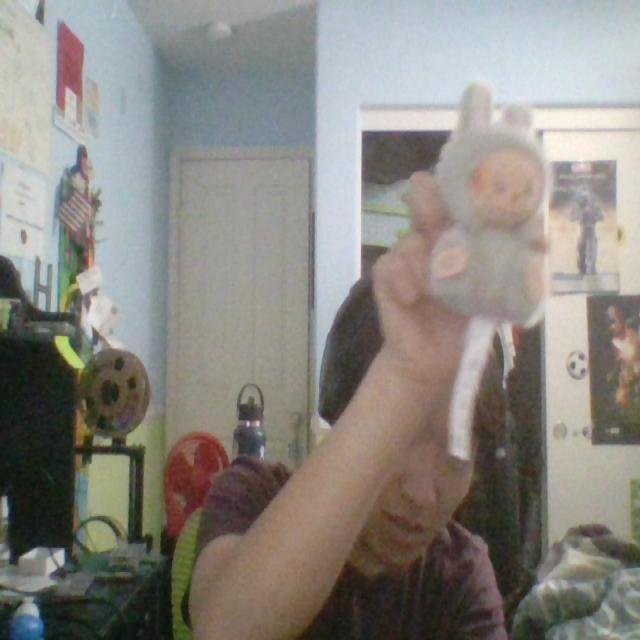labubu: (431, 85, 551, 325)
